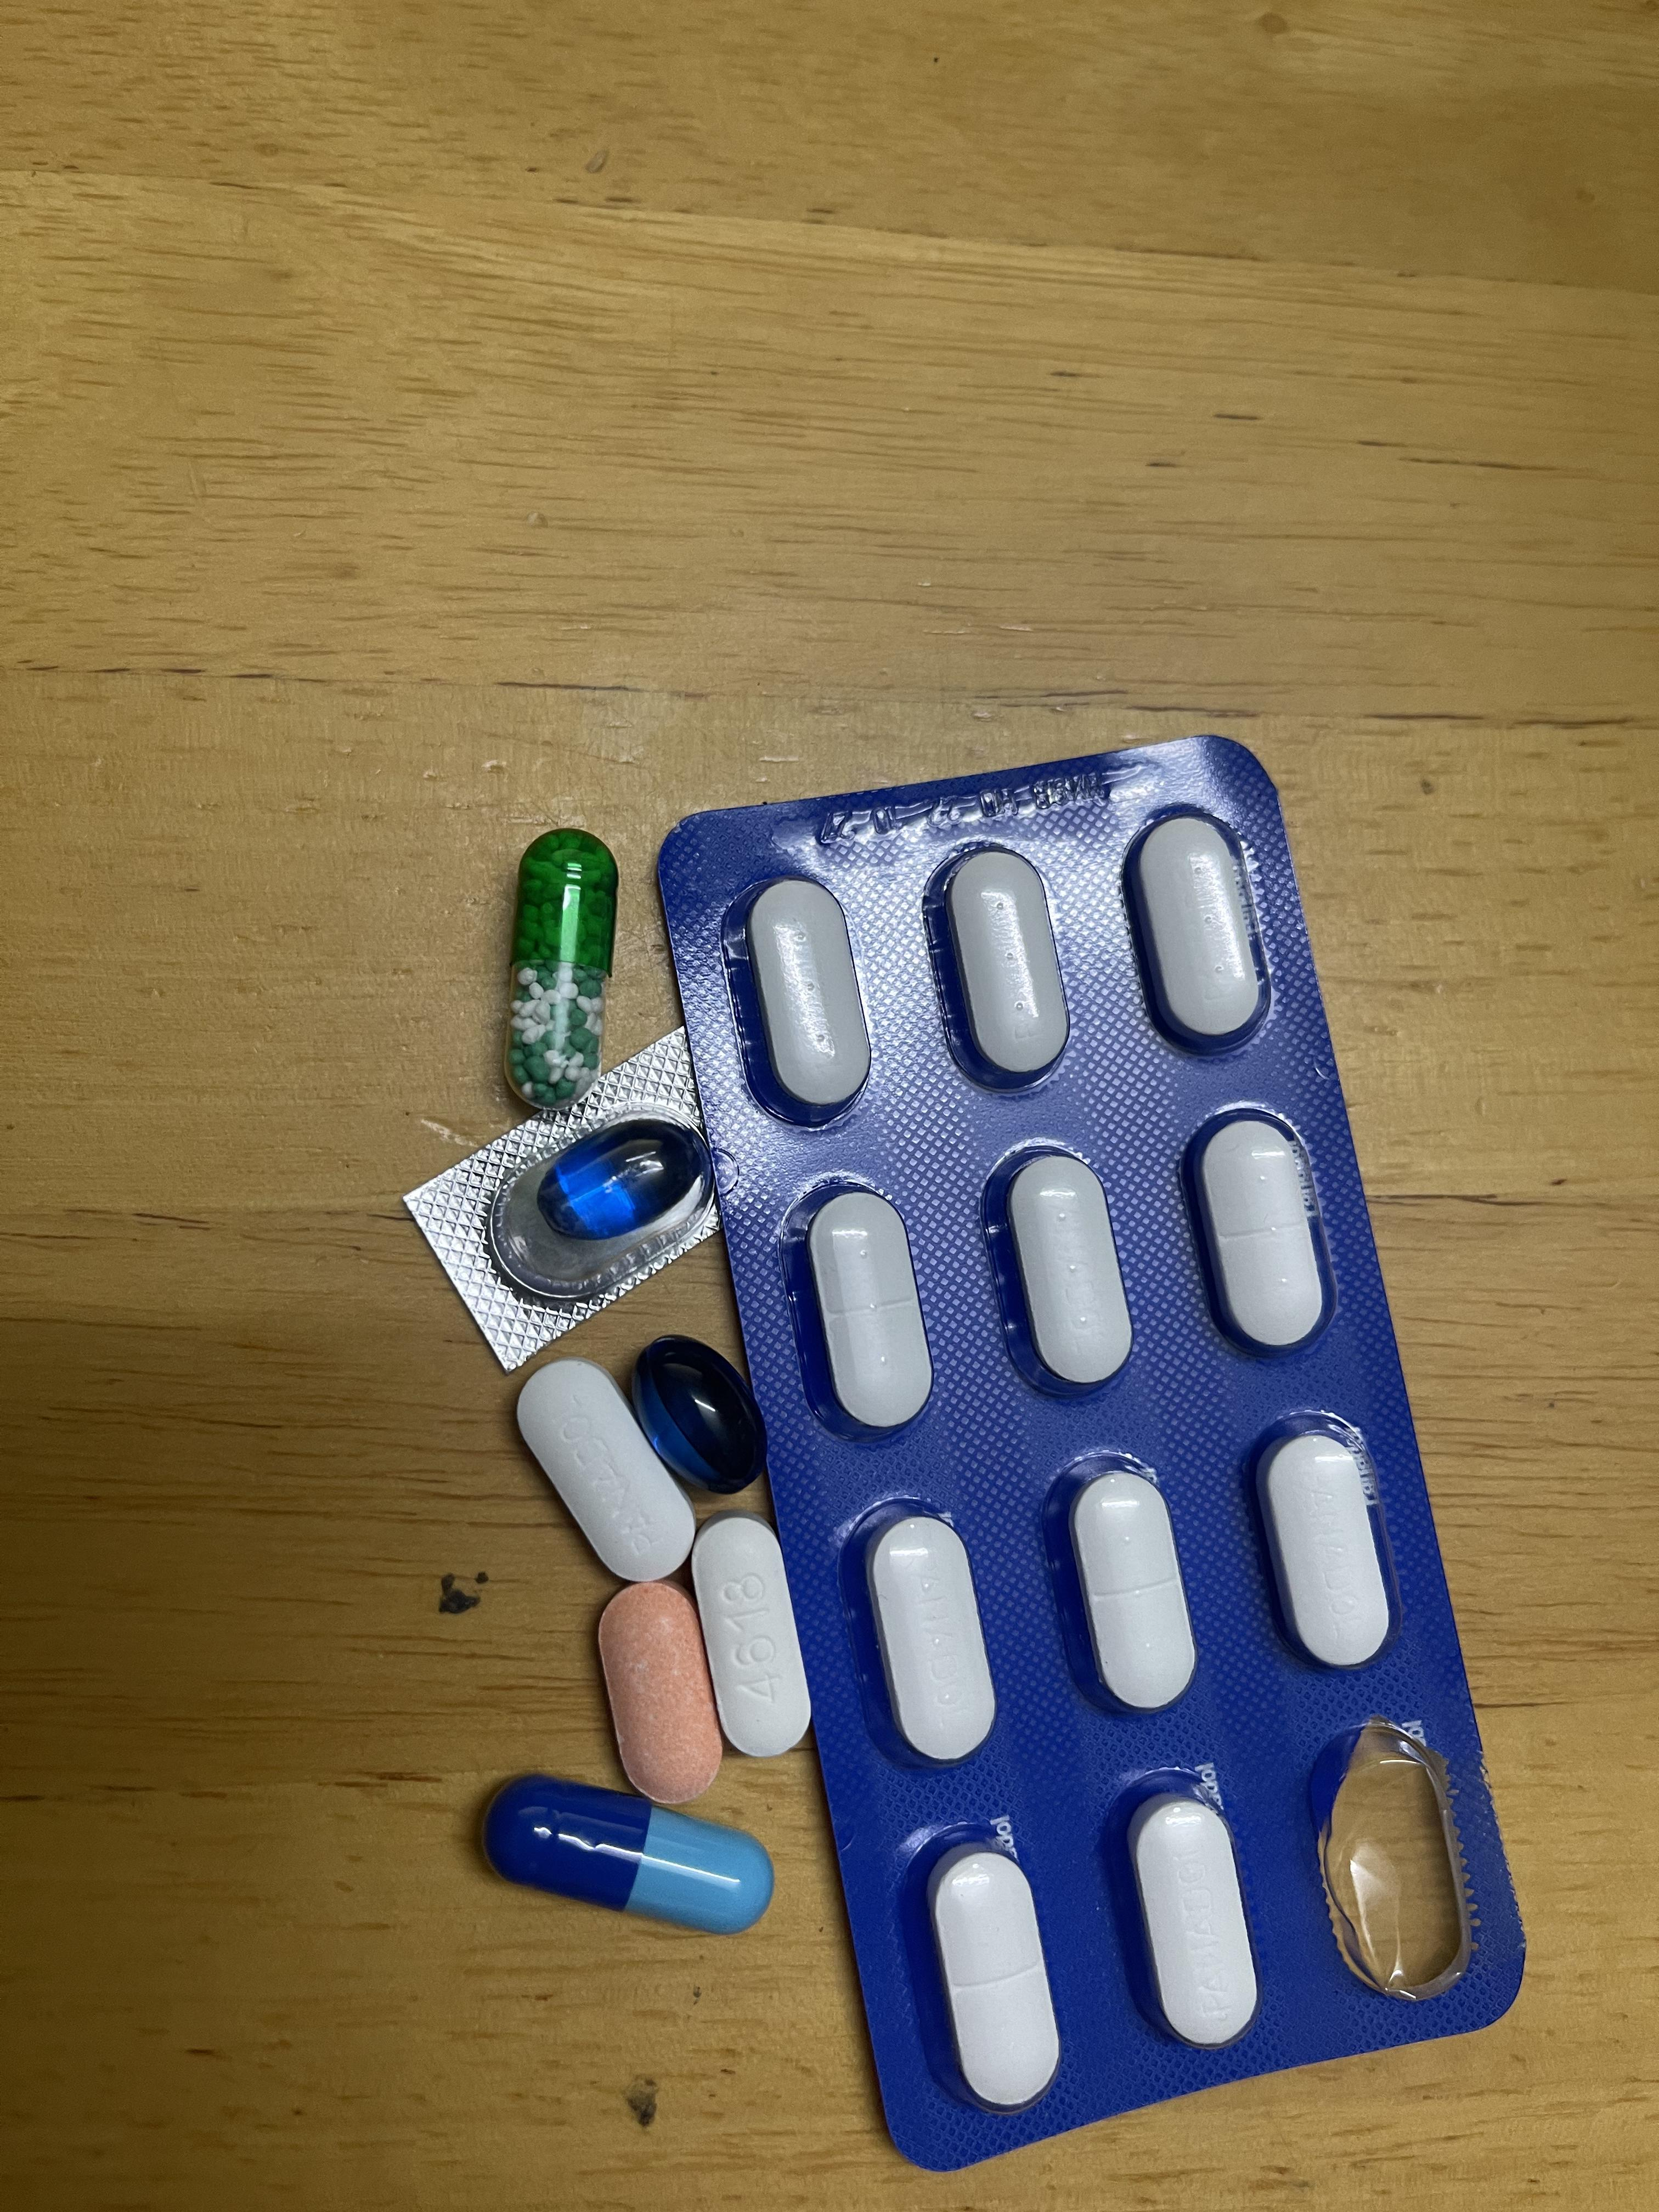Lincomyxin_500mg: (636, 1341, 763, 1489), (540, 1122, 692, 1237)
Loratadine_10mg: (601, 1581, 718, 1791)
Paracetamol_350mg: (514, 1357, 697, 1587), (1119, 1782, 1263, 2052), (922, 1839, 1063, 2114), (854, 1507, 999, 1768), (1253, 1418, 1396, 1676), (1054, 1456, 1195, 1716), (805, 1191, 932, 1433), (1129, 817, 1262, 1047), (1199, 1120, 1328, 1352), (945, 850, 1070, 1083), (744, 881, 868, 1115), (1009, 1160, 1133, 1392)
Paracetamol_500mg: (695, 1517, 809, 1754)
Paracetamol_650mg: (511, 833, 613, 1103)
pill: (495, 1791, 763, 1928)
